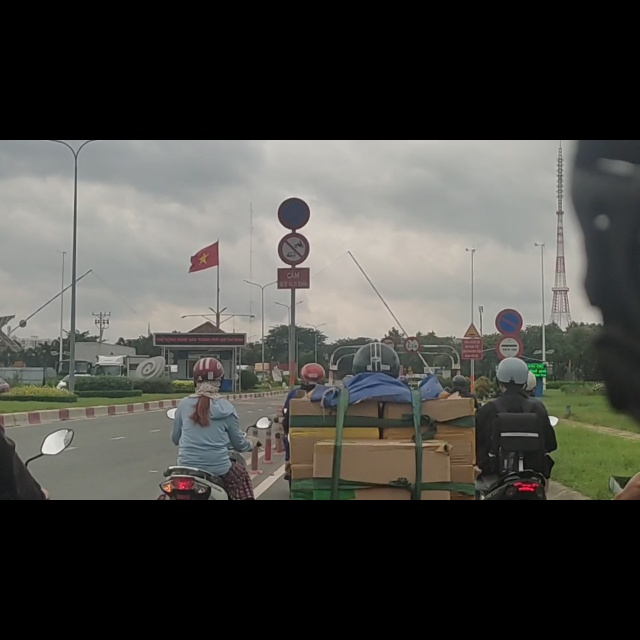bien_nguy_hiem: (277, 102, 311, 159), (278, 166, 310, 222), (495, 300, 523, 345), (497, 347, 523, 388), (465, 325, 480, 352), (405, 351, 420, 377)
